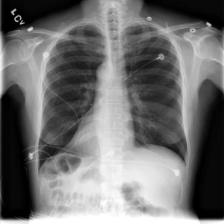normal: (33, 18, 192, 178)
